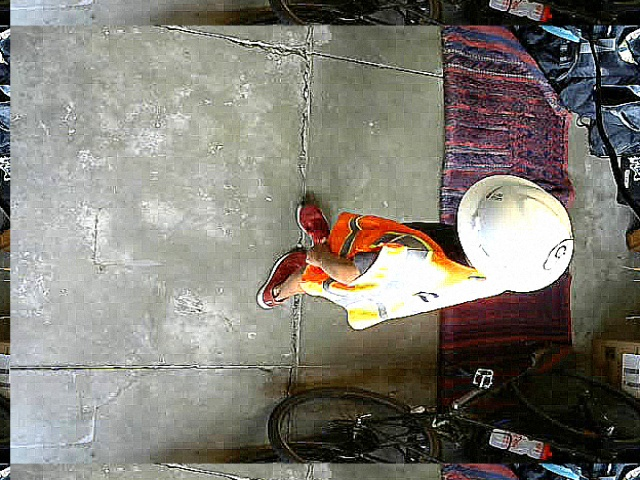eight: (541, 238, 575, 273)
